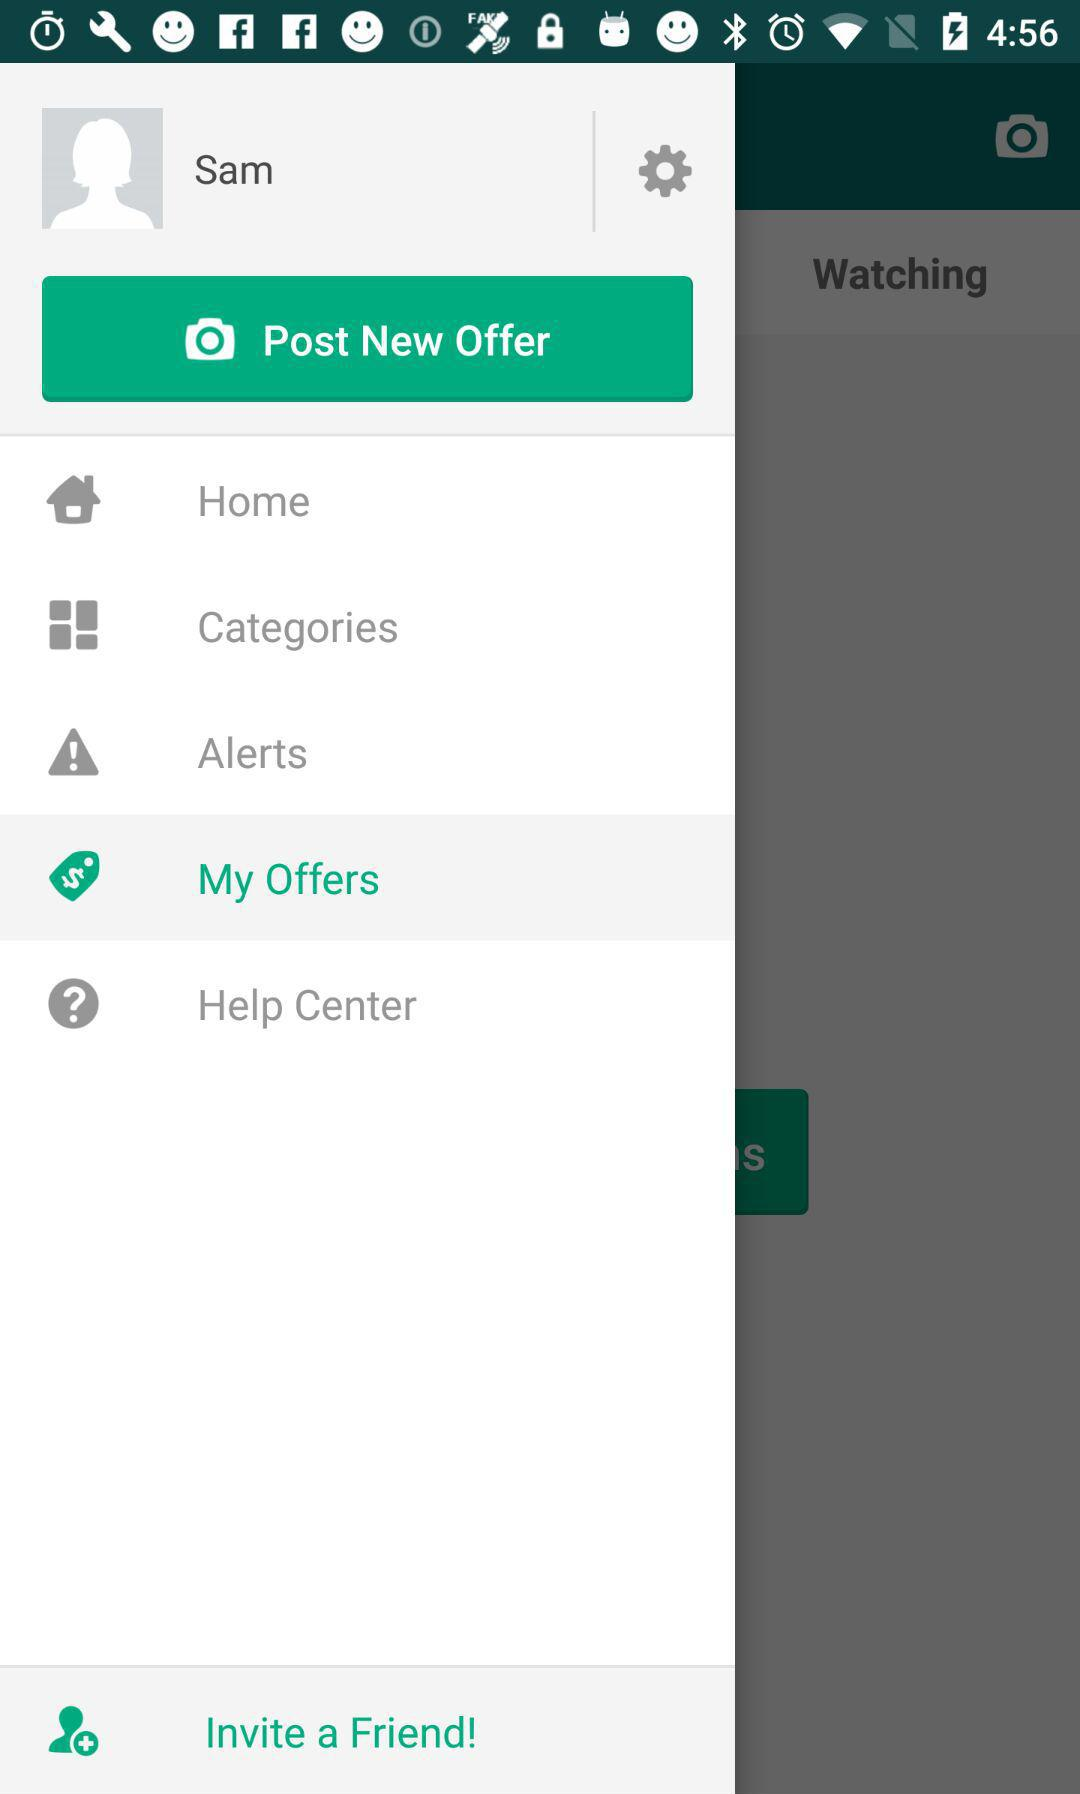Drawer: (1, 64, 735, 1794)
Icon: (42, 108, 165, 231), (638, 144, 693, 200), (49, 850, 101, 903), (46, 475, 102, 525), (47, 978, 100, 1030), (49, 600, 100, 652), (47, 728, 101, 778)
Text: (199, 987, 418, 1032), (199, 611, 398, 654), (200, 860, 380, 905), (199, 736, 307, 771), (199, 484, 311, 519), (195, 154, 274, 187)
TextButton: (1, 1666, 735, 1794), (42, 276, 694, 402)
UpperTaskBar: (1, 1, 1080, 64)
